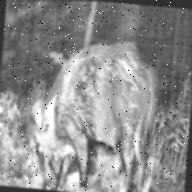boar: (15, 24, 166, 192)
